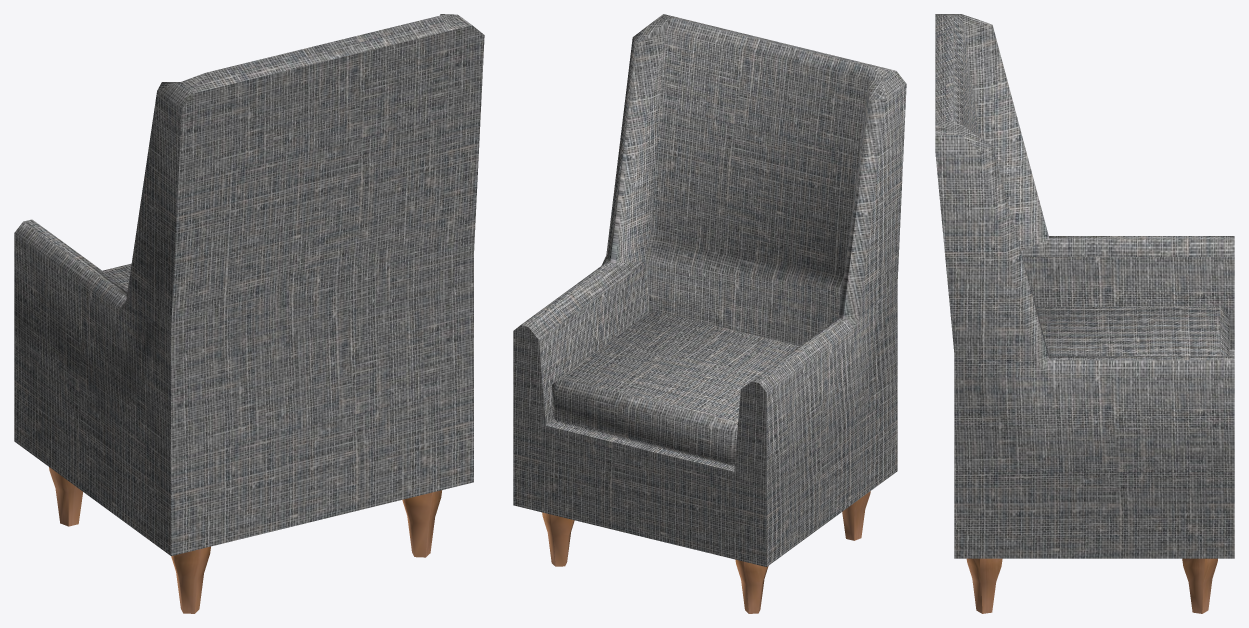
Rendered from Armchair_01-col.glb.
3 renders of one model, left to right at view 1: azimuth 30°, elevation 25°; view 2: azimuth 150°, elevation 25°; view 3: azimuth 270°, elevation 25°, orthographic. The views are drawn at different scales.
Parts seen in each view (by area): view 1: Armchair_01-col; view 2: Armchair_01-col; view 3: Armchair_01-col.
Part boxes in pixels (left/top/right/bottom): Armchair_01-col: left=14, top=14, right=484, bottom=613; Armchair_01-col: left=513, top=14, right=906, bottom=613; Armchair_01-col: left=935, top=14, right=1234, bottom=613.
Size of the model in its own units: 0.8003 by 1.39 by 0.7666.
Materials: 2 (2 with a texture image).
